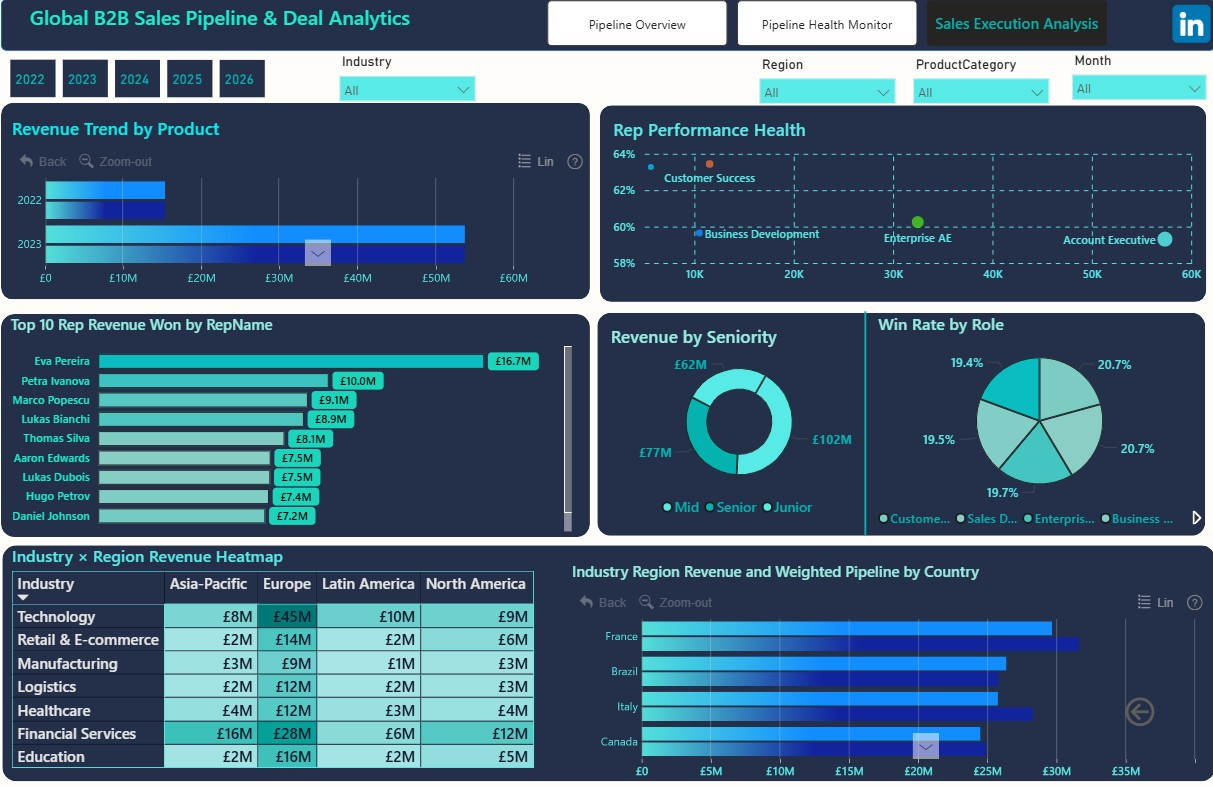

The page's visual inventory and layout, read from the dashboard file:
{"tool":"powerbi","page":{"name":"Sales Execution Analysis","canvas":[1300,850],"ordinal":2},"visuals":[{"type":"shape","box":[0,0,1300,55.6],"z":0},{"type":"shape","box":[0,110.9,630.6,210.7],"z":1000},{"type":"textbox","box":[0,0,480.6,56.9],"z":2000},{"type":"shape","box":[641.3,114.3,649.4,210.7],"z":3000},{"type":"ZoomChartsDrillDownComboBarPin97DBCD4437824A7F9FD60ECD8939CE","title":" Revenue Trend by Product","fields":{"Category":["Calendar.Year","Calendar.Quarter","Calendar.MonthName"],"Values1":["meausure table.Revenue closed"],"Values2":["meausure table.Industry Region Revenue"]},"box":[7.2,125.3,629.4,184.8],"z":4000},{"type":"scatterChart","title":"Rep Performance Health ","fields":{"X":["meausure table.Rep Activity Count"],"Y":["meausure table.Rep Win Rate"],"Size":["meausure table.Rep Revenue Won"],"Series":["DimSalesRep.Role"]},"box":[650.7,126.8,640,185.8],"z":5000},{"type":"shape","box":[0,337.2,630.6,238.8],"z":6000},{"type":"clusteredBarChart","title":"Top 10 Rep Revenue Won by RepName","fields":{"Category":["DimSalesRep.RepName"],"Y":["meausure table.Rep Revenue Won"]},"box":[5.8,337.8,610.7,238.2],"z":7000},{"type":"shape","box":[639,336,650.9,238.8],"z":8000},{"type":"shape","box":[0.7,585,1298.8,252.9],"z":9000},{"type":"pivotTable","title":"Industry × Region Revenue Heatmap","fields":{"Rows":["DimCompany.Industry"],"Columns":["DimCompany.Region"],"Values":["meausure table.Industry Region Revenue"]},"box":[7,585,585.4,252.9],"z":10000},{"type":"actionButton","box":[1198.4,743.2,100.5,40.8],"z":11000},{"type":"donutChart","title":"Revenue by Seniority","fields":{"Category":["DimSalesRep.Seniority"],"Y":["meausure table.Rep Revenue Won"]},"box":[648.3,348.5,285.7,215.4],"z":12000},{"type":"pieChart","title":"Win Rate by Role","fields":{"Category":["DimSalesRep.Role"],"Y":["meausure table.Win Rate %"]},"box":[934,336,355.9,238.8],"z":13000},{"type":"shape","box":[916.7,334.9,17.3,239.6],"z":14000},{"type":"ZoomChartsDrillDownComboBarPin97DBCD4437824A7F9FD60ECD8939CE","fields":{"Category":["DimCompany.Country"],"Values2":["meausure table.Weighted Pipeline"],"Values1":["meausure table.Industry Region Revenue"]},"box":[606.4,600.6,693.1,237.3],"z":15000},{"type":"pageNavigator","box":[584.8,1.4,599.4,50],"z":16000},{"type":"image","box":[1248,1.4,52,50.5],"z":17000},{"type":"advancedSlicerVisual","fields":{"Values":["Calendar.Year"]},"box":[5.8,60.6,285.8,50.5],"z":18000},{"type":"slicer","fields":{"Values":["Calendar.MonthName"]},"box":[1136.1,52,164.6,62.1],"z":19000},{"type":"slicer","fields":{"Values":["FactActivities.ProductCategory"]},"box":[965.8,56.3,166,60.6],"z":20000},{"type":"slicer","fields":{"Values":["DimCompany.Region"]},"box":[801.2,56.3,166,60.6],"z":21000},{"type":"slicer","fields":{"Values":["DimCompany.Industry"]},"box":[352.2,53.4,166,60.6],"z":22000}]}

Visuals, with their boxes in screenshot pixels (x1, y1, x2, y2), scaled from the page's 1300x850 canvas onto the 1213x787 screenshot:
shape: bbox=[0, 0, 1212, 51]
shape: bbox=[0, 103, 588, 298]
textbox: bbox=[0, 0, 448, 53]
shape: bbox=[598, 106, 1204, 301]
" Revenue Trend by Product" ZoomChartsDrillDownComboBarPin97DBCD4437824A7F9FD60ECD8939CE: bbox=[7, 116, 594, 287]
"Rep Performance Health " scatterChart: bbox=[607, 117, 1204, 289]
shape: bbox=[0, 312, 588, 533]
"Top 10 Rep Revenue Won by RepName" clusteredBarChart: bbox=[5, 313, 575, 533]
shape: bbox=[596, 311, 1204, 532]
shape: bbox=[1, 542, 1212, 776]
"Industry × Region Revenue Heatmap" pivotTable: bbox=[7, 542, 553, 776]
actionButton: bbox=[1118, 688, 1212, 726]
"Revenue by Seniority" donutChart: bbox=[605, 323, 871, 522]
"Win Rate by Role" pieChart: bbox=[871, 311, 1204, 532]
shape: bbox=[855, 310, 871, 532]
ZoomChartsDrillDownComboBarPin97DBCD4437824A7F9FD60ECD8939CE - DimCompany.Country x meausure table.Weighted Pipeline: bbox=[566, 556, 1212, 776]
pageNavigator: bbox=[546, 1, 1105, 48]
image: bbox=[1164, 1, 1212, 48]
advancedSlicerVisual - Calendar.Year: bbox=[5, 56, 272, 103]
slicer - Calendar.MonthName: bbox=[1060, 48, 1212, 106]
slicer - FactActivities.ProductCategory: bbox=[901, 52, 1056, 108]
slicer - DimCompany.Region: bbox=[748, 52, 902, 108]
slicer - DimCompany.Industry: bbox=[329, 49, 484, 106]
